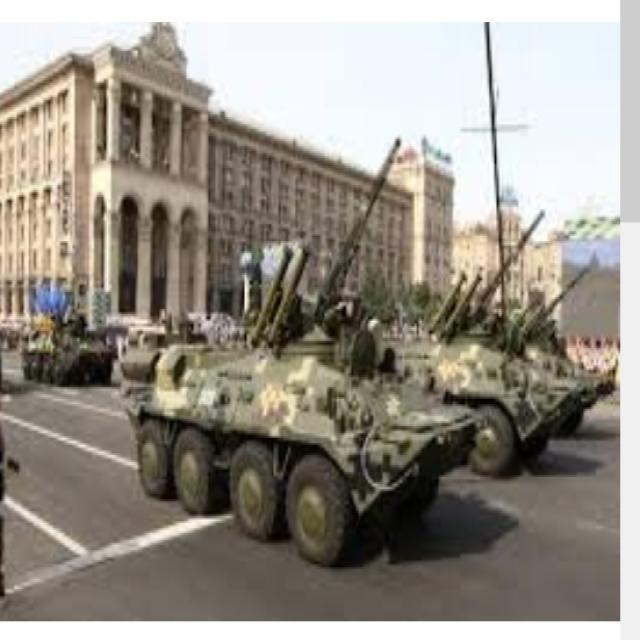MIL_APC: (116, 289, 460, 566), (399, 298, 571, 480)
